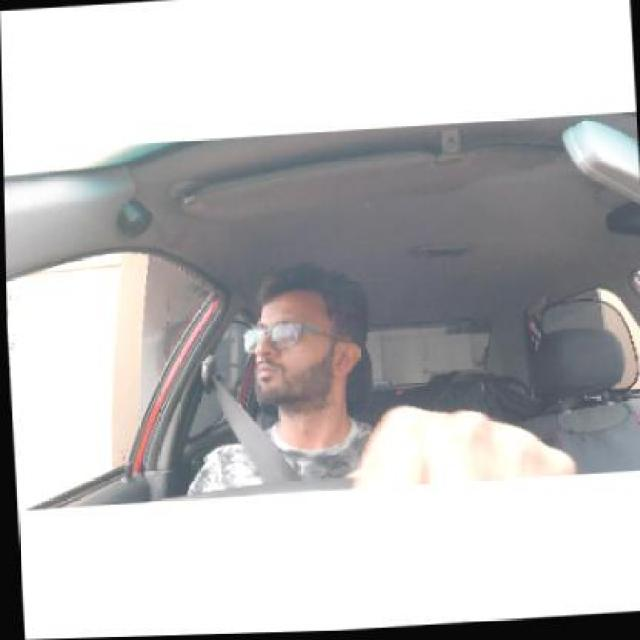LeftRight: (235, 264, 379, 414)
